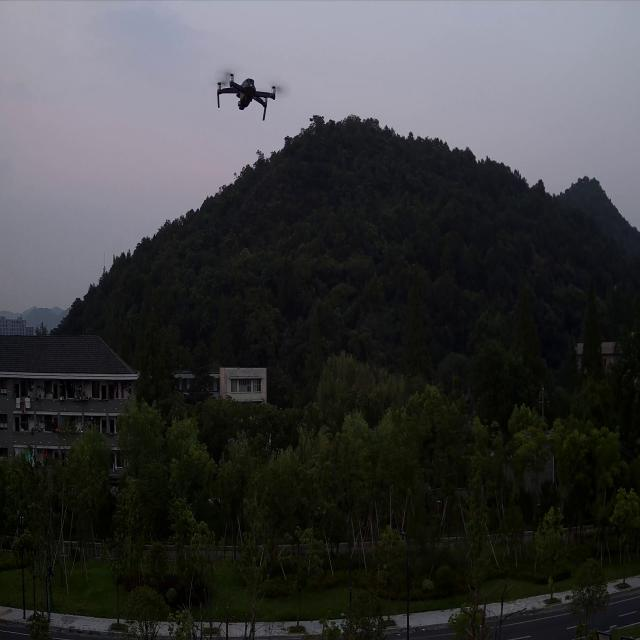UAV: (214, 70, 276, 120)
